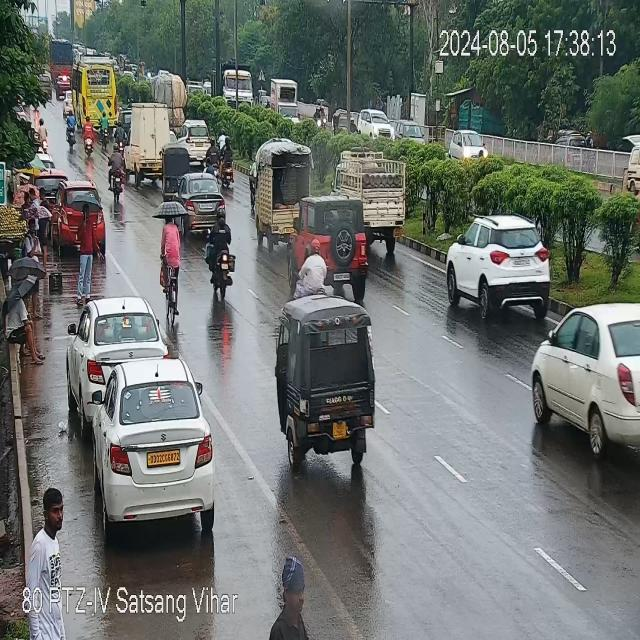2-wheelers: (203, 216, 239, 304), (158, 208, 178, 312), (206, 132, 236, 188), (105, 147, 128, 197), (83, 120, 99, 156), (36, 118, 50, 155), (99, 108, 110, 153), (67, 111, 76, 151)
auto: (271, 301, 380, 473), (334, 150, 408, 252), (254, 144, 309, 248), (157, 143, 191, 197)
bus: (74, 57, 119, 142)
car: (94, 364, 218, 530), (531, 302, 640, 456), (440, 215, 558, 322), (70, 296, 164, 406), (287, 193, 371, 287), (176, 174, 227, 232), (448, 126, 489, 161), (357, 106, 396, 140), (180, 122, 212, 160), (395, 121, 429, 146)
pedestrian: (23, 484, 72, 580), (3, 260, 44, 369), (18, 181, 50, 319), (63, 195, 104, 299)
truck: (121, 106, 179, 182), (221, 64, 255, 110), (48, 33, 74, 91)
